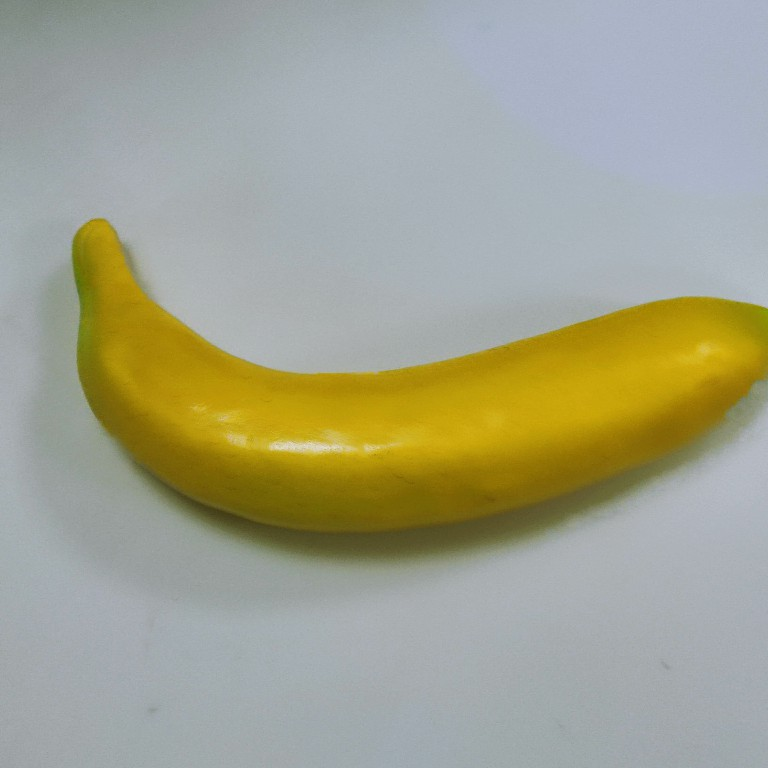fruit_banana: (66, 213, 768, 535)
